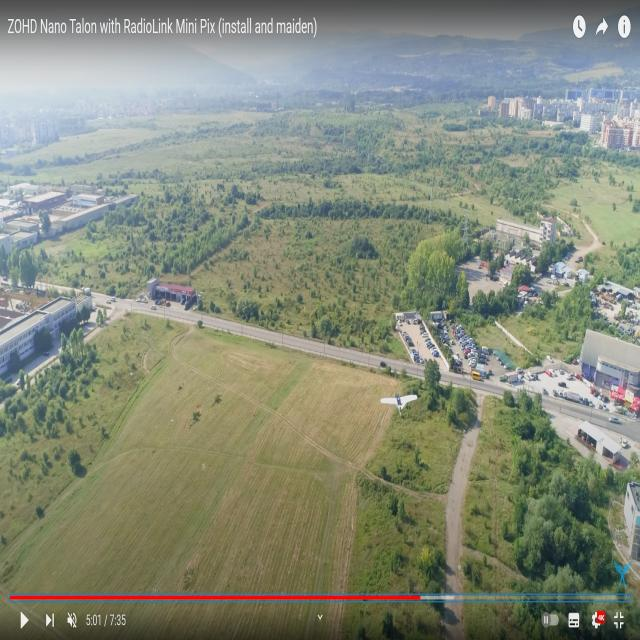iha: (382, 390, 420, 419)
